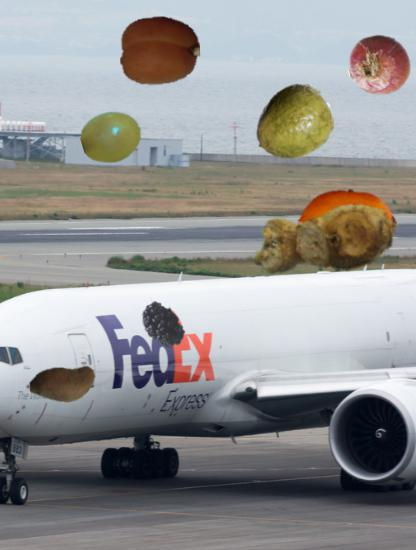Apricot: (120, 10, 201, 91)
Ginger: (250, 166, 400, 316)
Grape: (81, 107, 143, 169)
Guava: (252, 82, 334, 164)
Lemon: (297, 178, 399, 280)
Mulberry: (129, 299, 186, 356)
Onion: (348, 34, 411, 97)
Potato: (28, 351, 96, 419)
